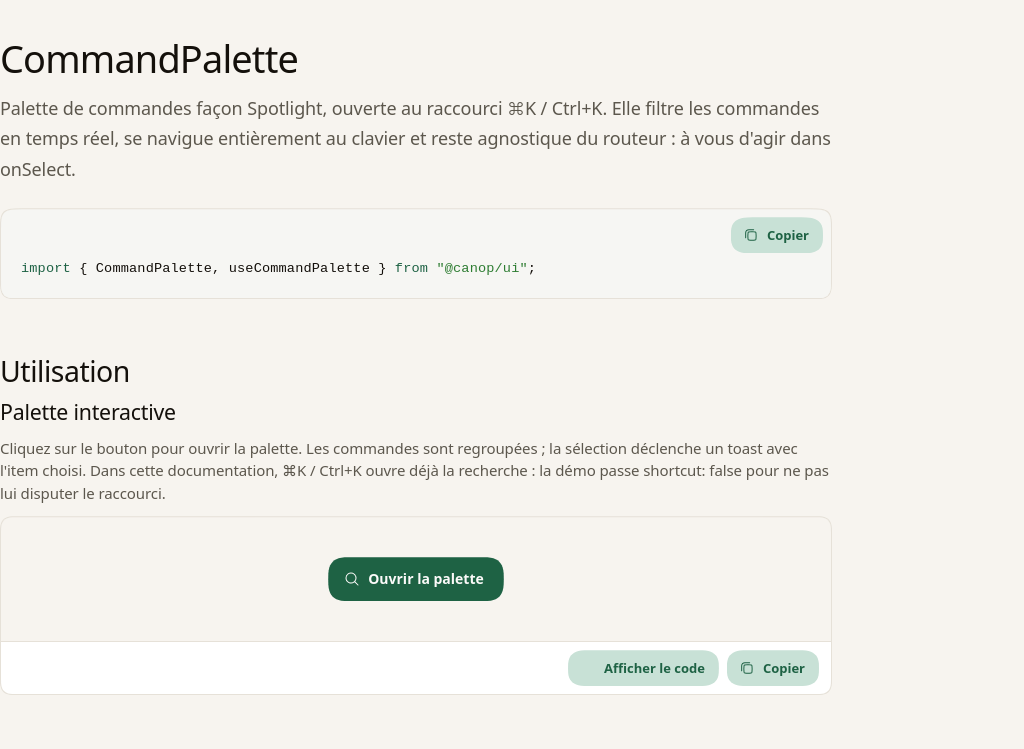
it: AC7 les démos CommandPalette laissent Ctrl+K à la vitrine › ouvre toujours la palette de démo par son bouton
Click the button "Ouvrir la palette" at (416, 579), box [328,557,504,601]
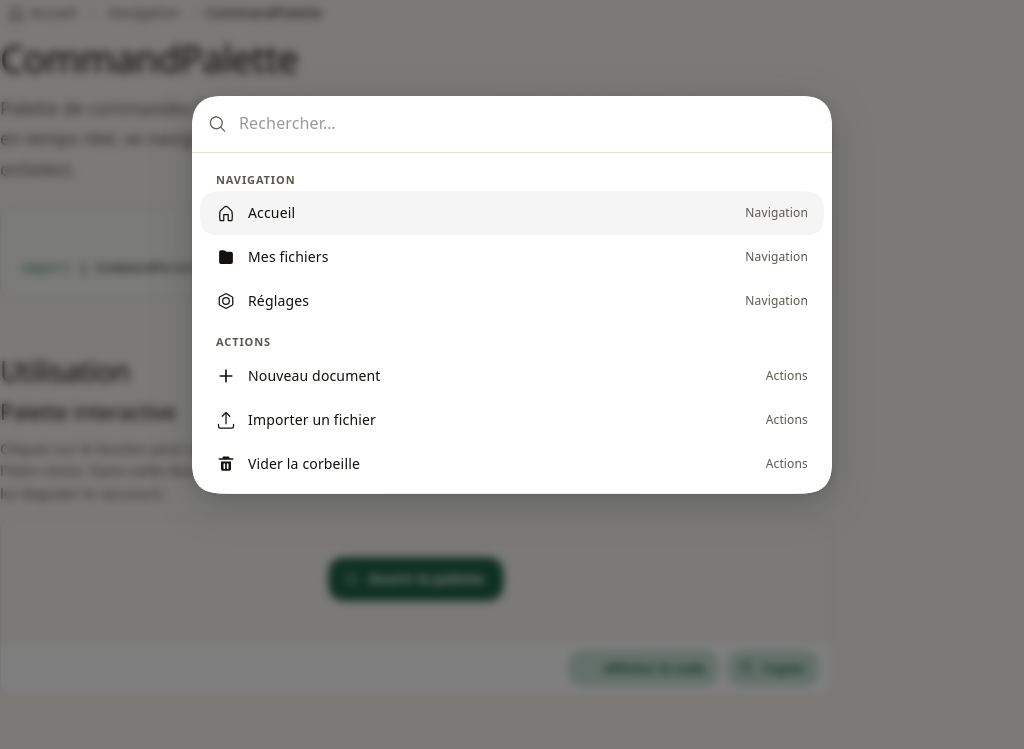
Now the dropdown is shown, box [239,108,816,140]
